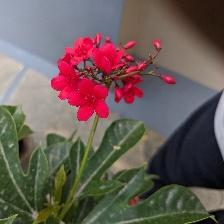jatropha: (70, 78, 114, 127)
